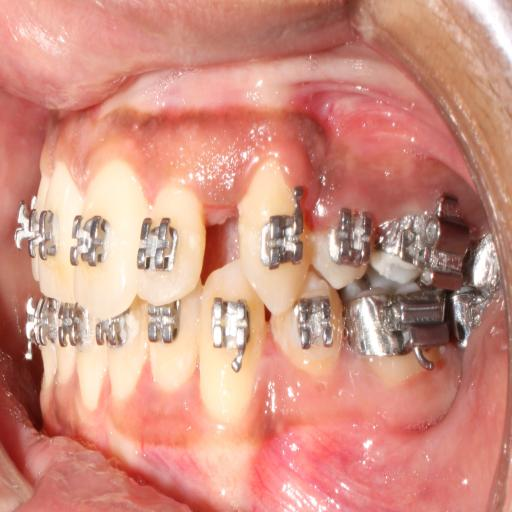correct_brace: (311, 208, 370, 286), (260, 208, 306, 278), (136, 214, 179, 282), (68, 210, 110, 266)
incorrect_brace: (138, 178, 205, 301), (331, 209, 374, 266)
